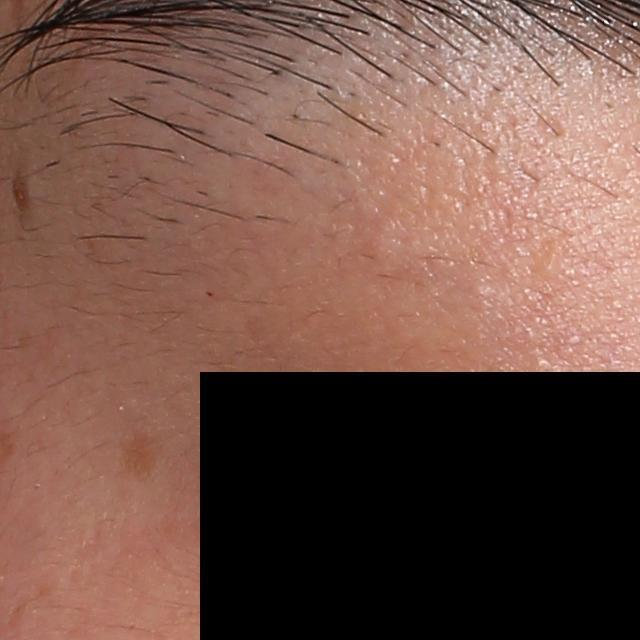melasma: (115, 437, 166, 486)
nevus: (7, 175, 30, 215)
